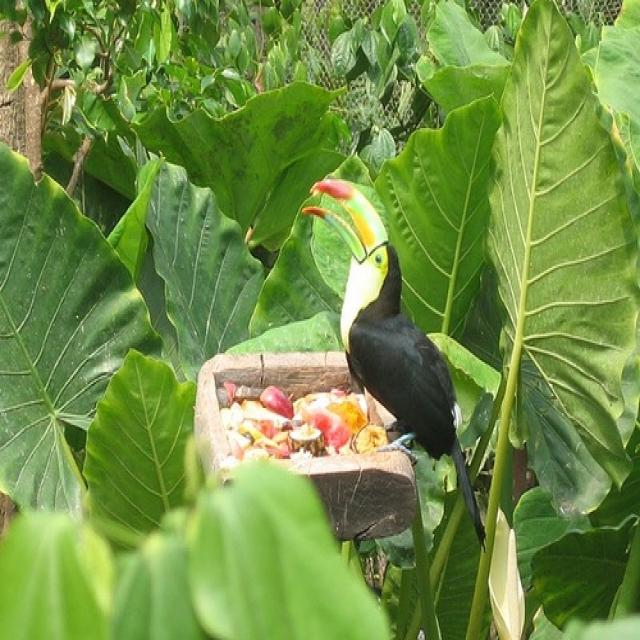bird: (301, 178, 486, 554)
